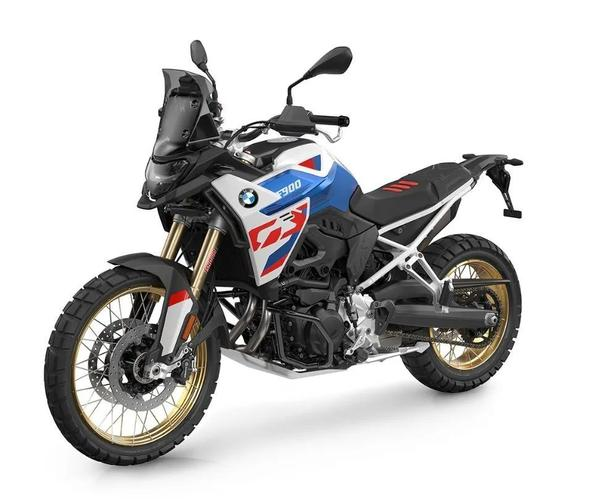摩托车: (27, 24, 566, 471)
